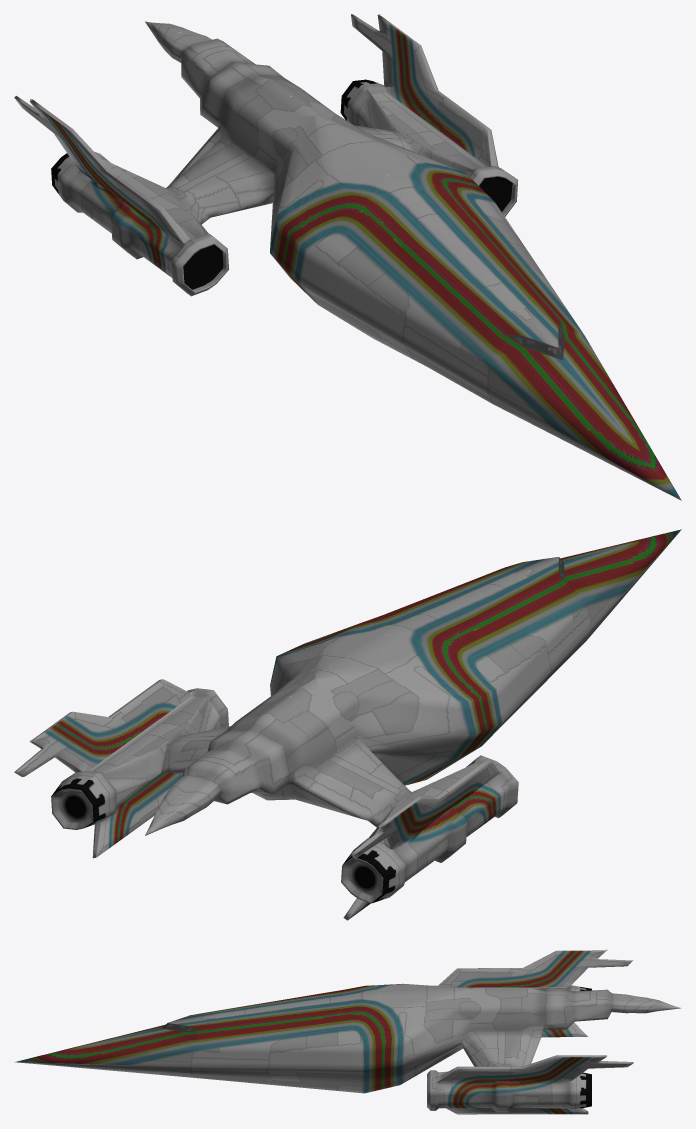
3 views of the same model, one above another, from view 1: azimuth 30°, elevation 25°; view 2: azimuth 150°, elevation 25°; view 3: azimuth 270°, elevation 25° (orthographic). The views are drawn at different scales.
Visible parts, largest first — view 1: H496_octotoad4_octotoad4_a; view 2: H496_octotoad4_octotoad4_a; view 3: H496_octotoad4_octotoad4_a.
Boxes of the visible parts, x1,y1,x2,y2 form: H496_octotoad4_octotoad4_a: [14, 14, 681, 500]; H496_octotoad4_octotoad4_a: [14, 529, 681, 920]; H496_octotoad4_octotoad4_a: [14, 950, 681, 1114].
Bounding box in the file's own units: 13.52 × 5.81 × 35.79.
